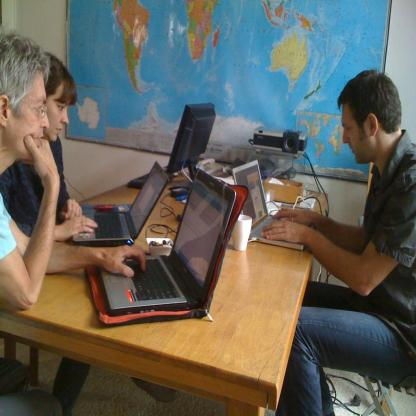board: (90, 172, 231, 330), (73, 161, 171, 245), (231, 158, 314, 252)
